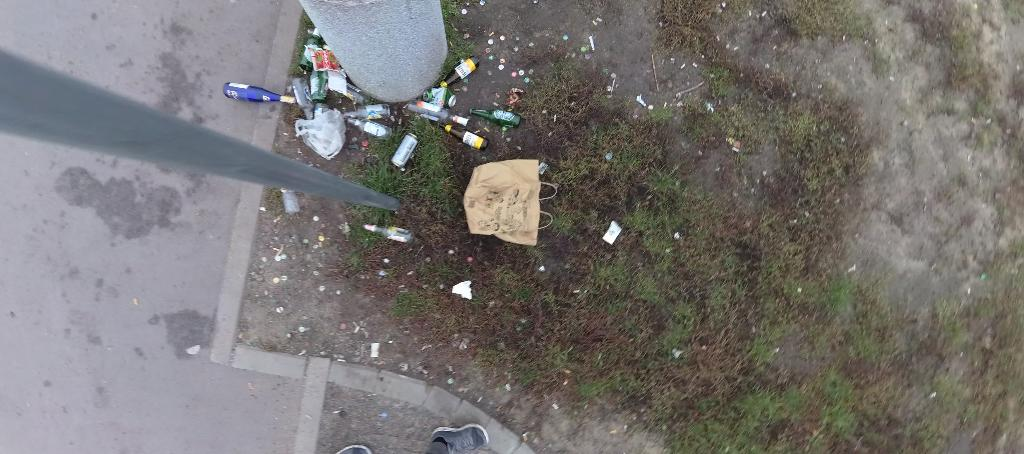garbage: (466, 154, 558, 250), (293, 106, 351, 161), (441, 51, 481, 89), (471, 105, 521, 133), (392, 132, 420, 172), (449, 276, 476, 306)
